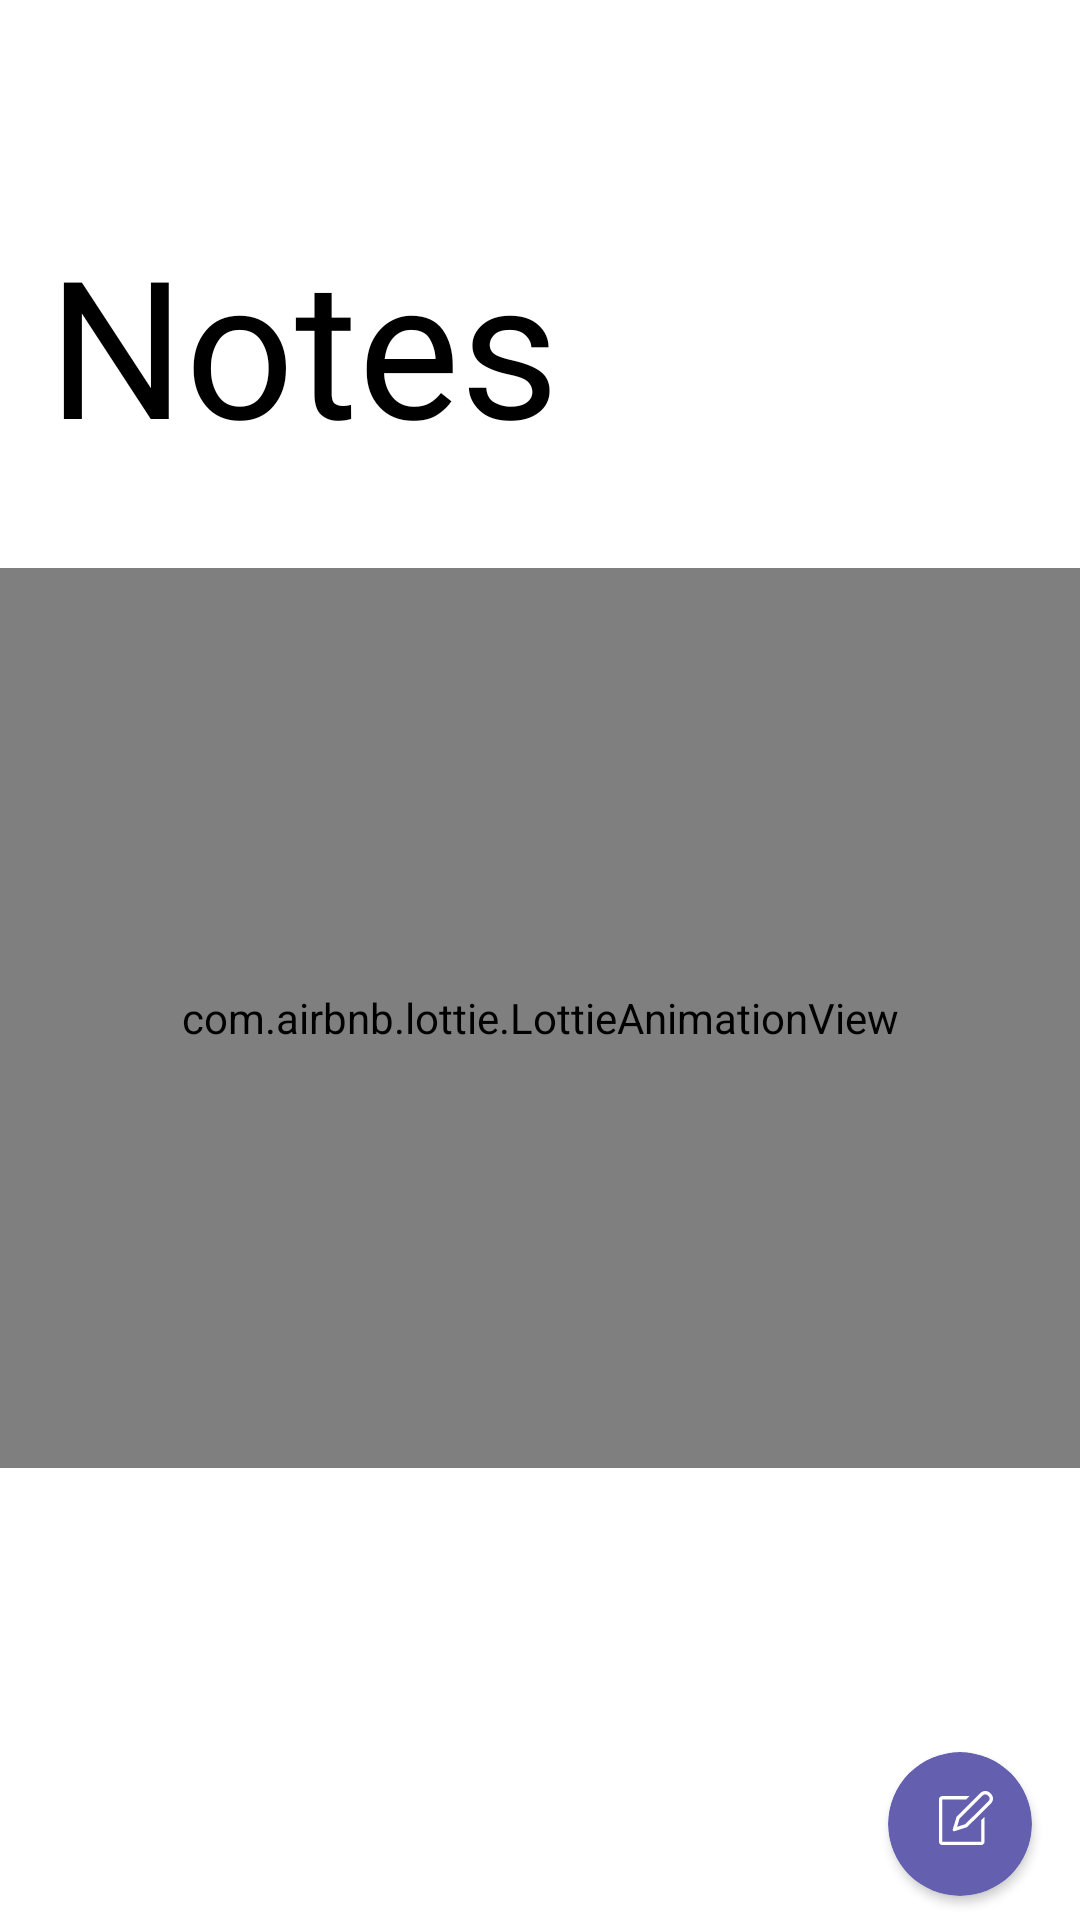

Screen size 1080 x 1920. Icon name, then its box in pixels as (x1, y1, x2, y2):
Note: (939, 1791, 993, 1845)
